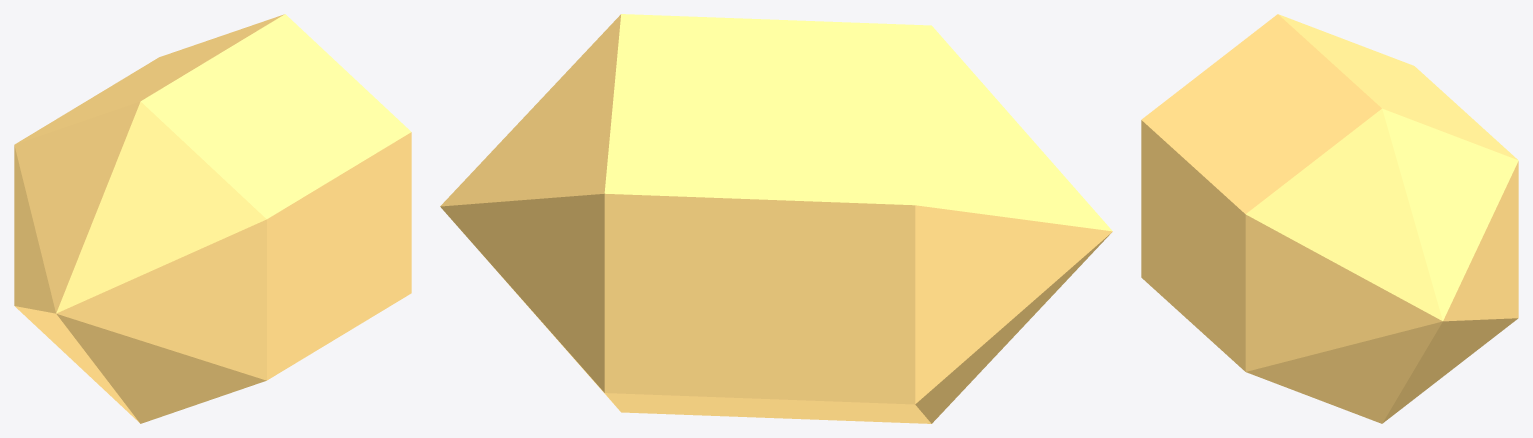
File: gem_bulwark.glb
3 views of the same model, side by side, from view 1: azimuth 30°, elevation 25°; view 2: azimuth 150°, elevation 25°; view 3: azimuth 270°, elevation 25° (orthographic). The views are drawn at different scales.
Parts seen in each view (by area): view 1: model; view 2: model; view 3: model.
Boxes of the visible parts, left/top/right/bottom form: model: left=14, top=14, right=411, bottom=423; model: left=440, top=14, right=1112, bottom=423; model: left=1141, top=14, right=1518, bottom=423.
Size of the model in its own units: 0.1532 by 0.11 by 0.1193.
